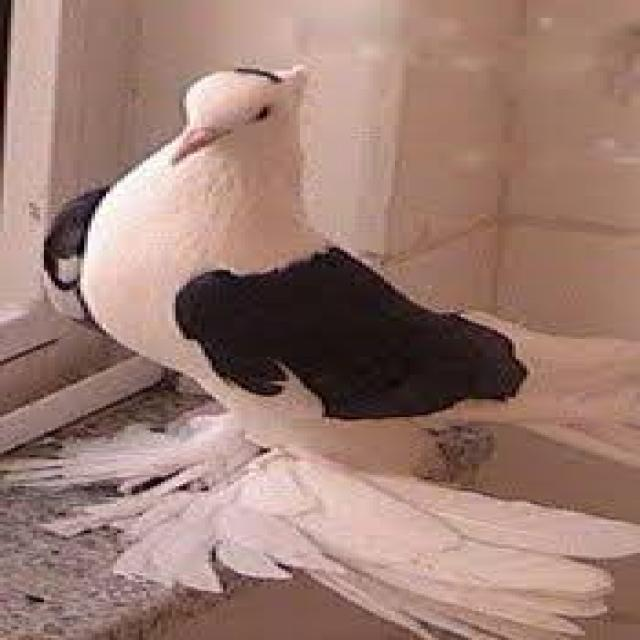bird: (28, 60, 638, 636)
